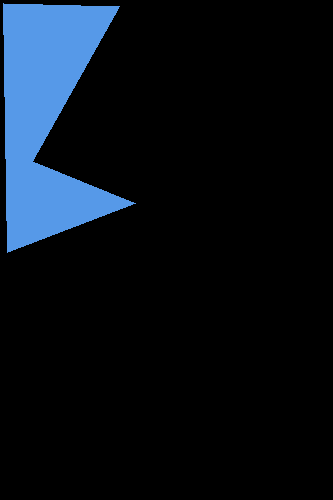Airplane: (3, 3, 135, 252)
